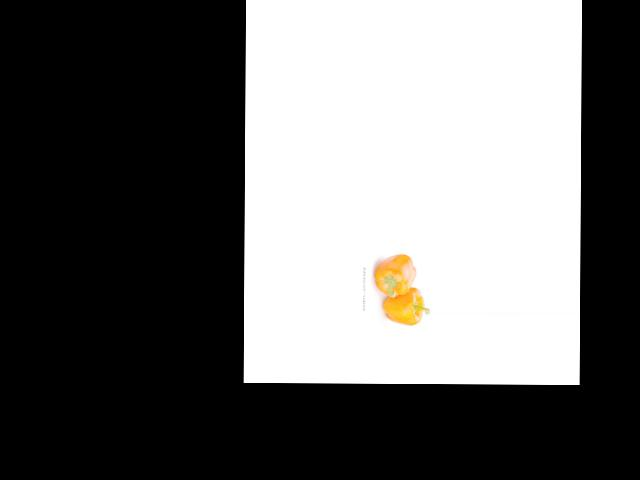bell_pepper: (370, 252, 417, 299)
